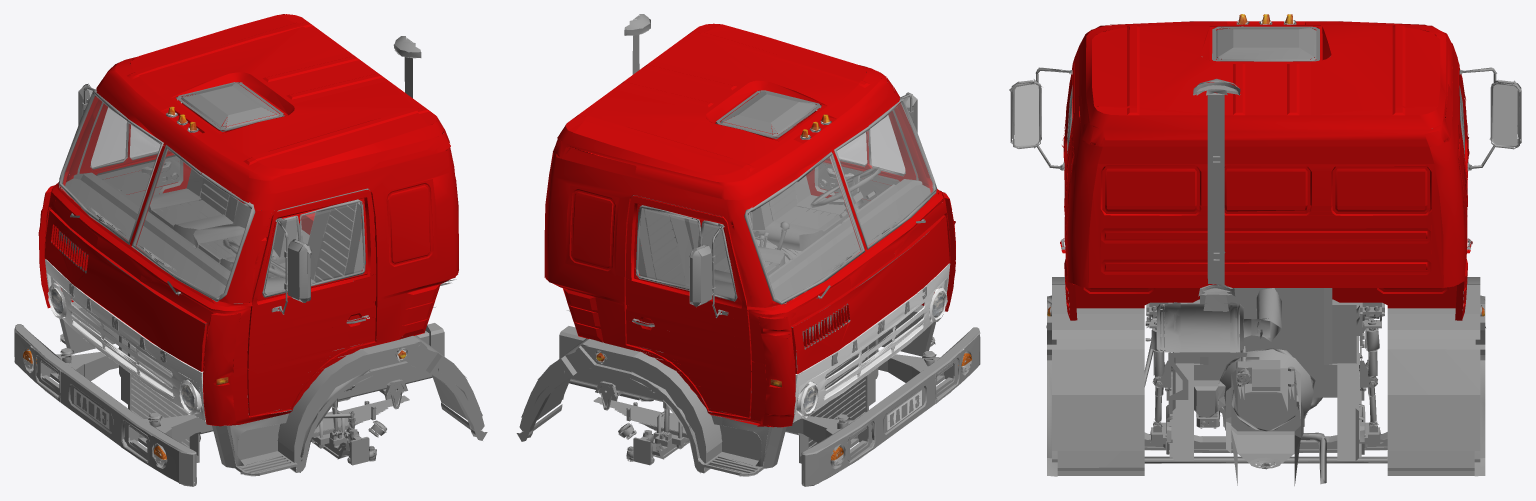
Rendered from kamaz-cab-donor.glb.
3 renders of one model, left to right at view 1: azimuth 30°, elevation 25°; view 2: azimuth 150°, elevation 25°; view 3: azimuth 270°, elevation 25°, orthographic. The views are drawn at different scales.
Visible parts, largest first — view 1: Material3; view 2: Material3; view 3: Material3.
Part boxes in pixels (x1,y1,x2,y2): Material3: [14, 14, 487, 486]; Material3: [516, 14, 980, 486]; Material3: [1009, 14, 1521, 485].
Size of the model in its own units: 111898 by 120395 by 131767.
11 materials, 4 textured.
